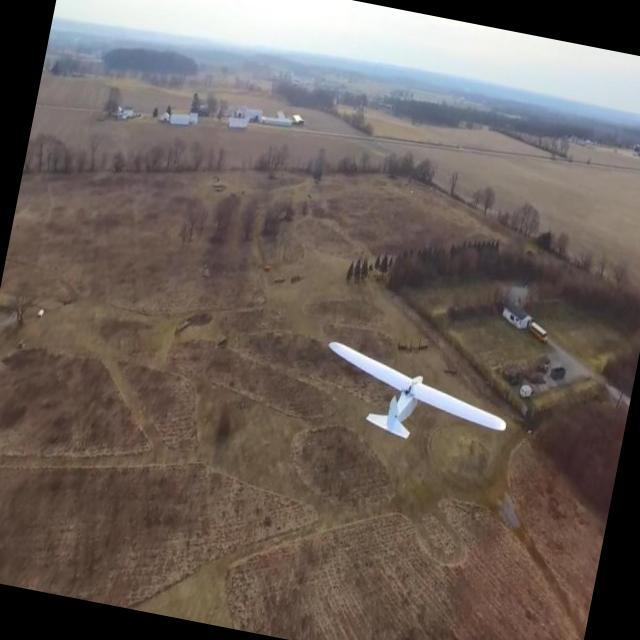UAV: (218, 308, 519, 478)
